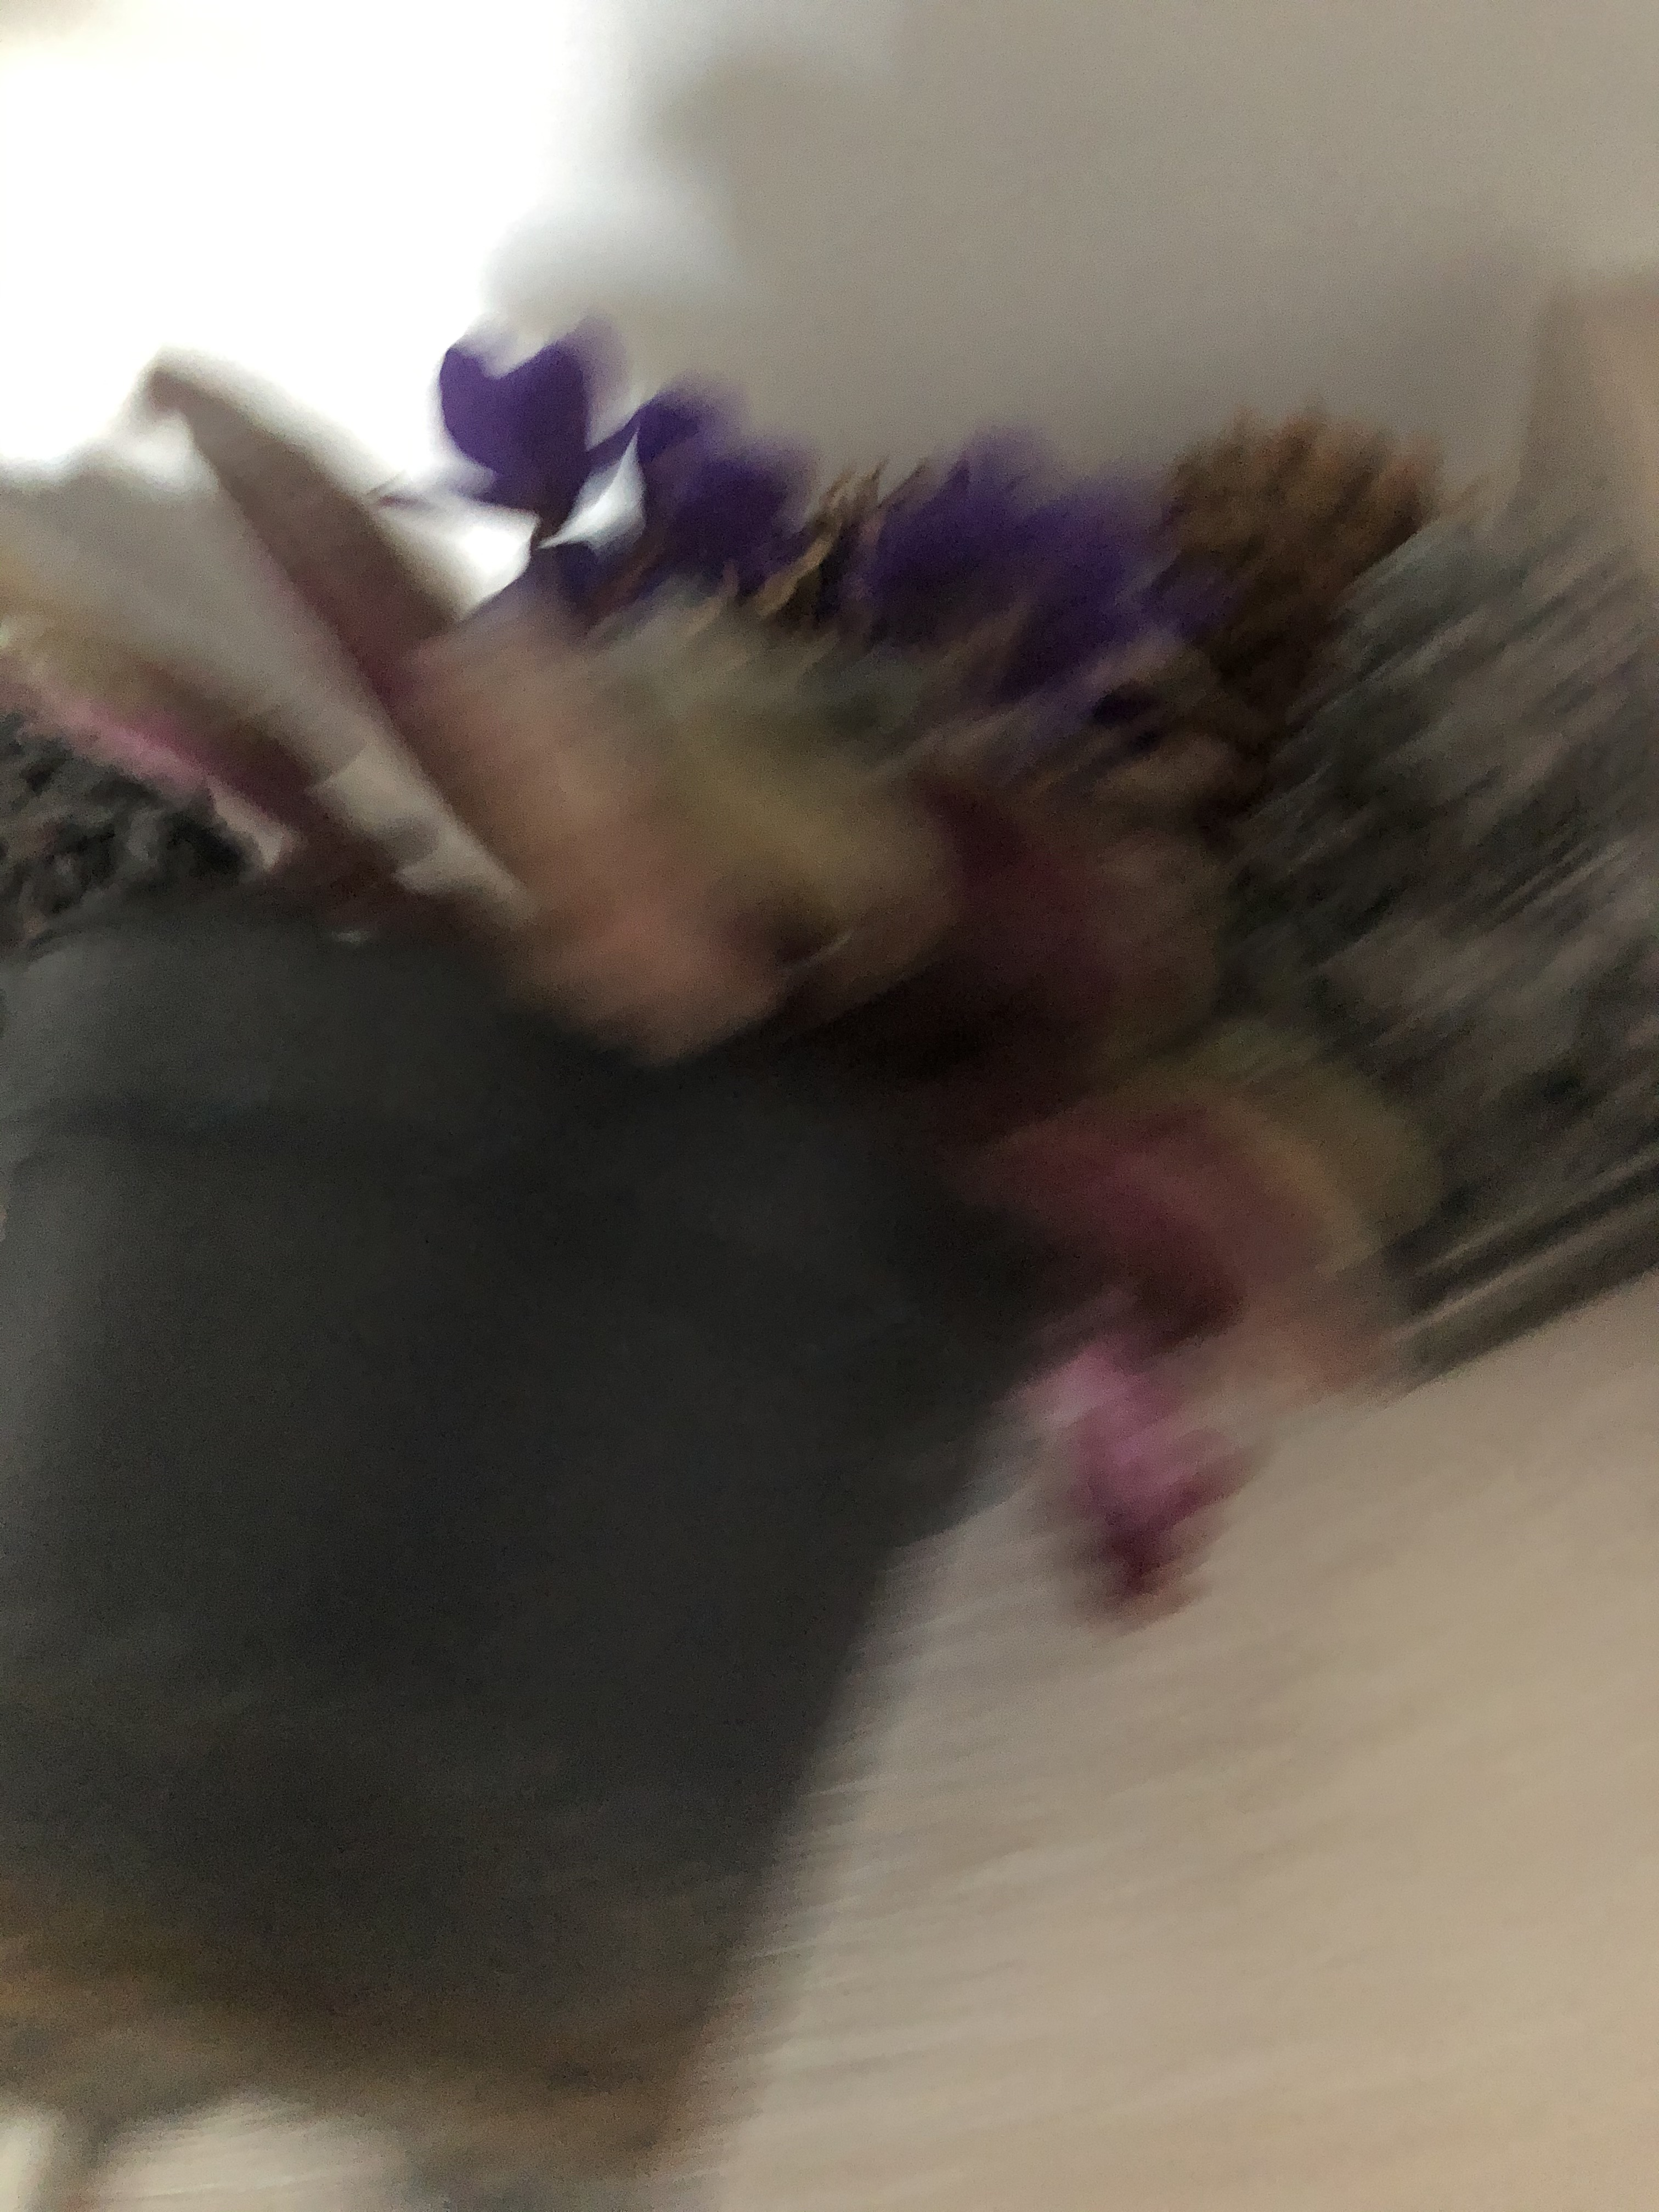ignore: (24, 338, 1450, 1339)
